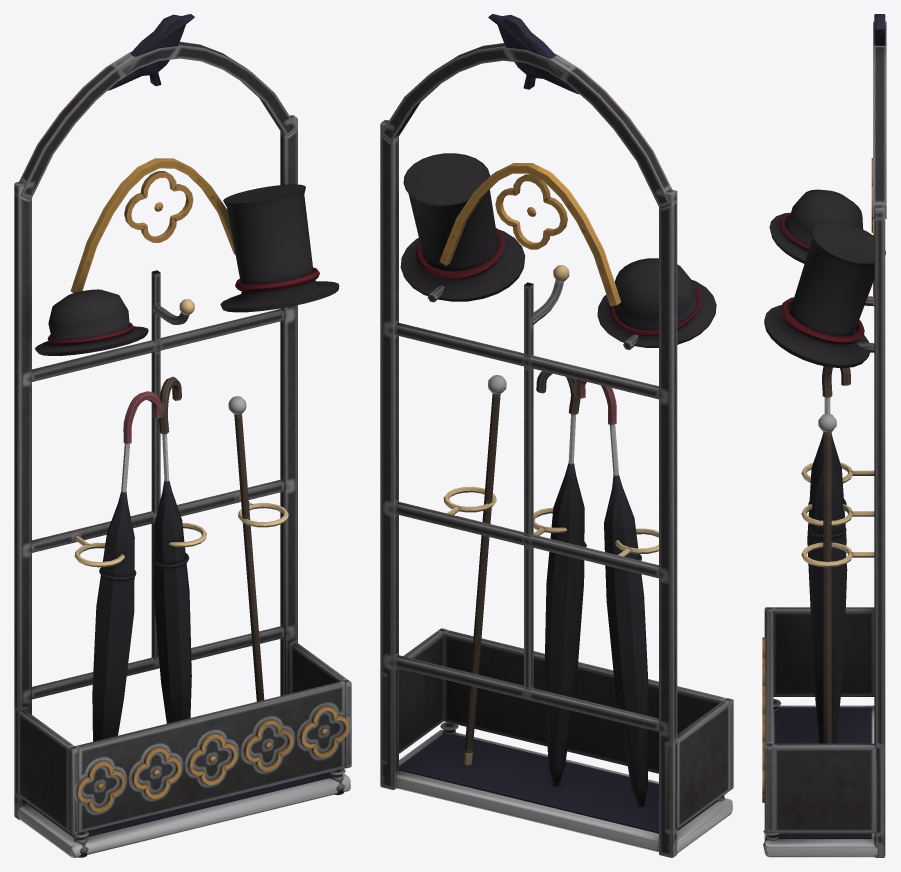
The model's file is HatUmbrellaStand.fbx.
The picture shows the model from 3 angles, left to right: view 1: azimuth 30°, elevation 25°; view 2: azimuth 150°, elevation 25°; view 3: azimuth 270°, elevation 25°; orthographic projection. The views are drawn at different scales.
Visible parts, largest first — view 1: HatUmbrellaStand; view 2: HatUmbrellaStand; view 3: HatUmbrellaStand.
Part boxes in pixels (box(x1,y1,x2,y2)): HatUmbrellaStand: box(14, 14, 351, 857); HatUmbrellaStand: box(380, 14, 733, 857); HatUmbrellaStand: box(762, 14, 886, 857).
Bounding box in the file's own units: 250 × 626 × 90.4.
